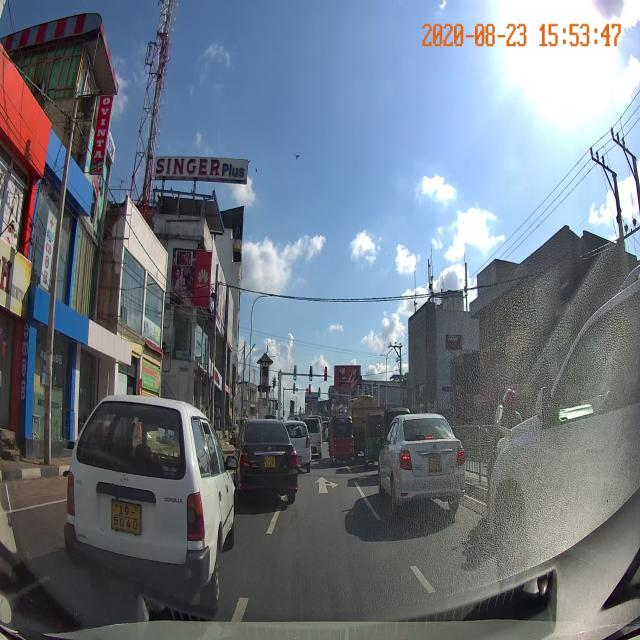forward_right: (275, 472, 372, 502), (275, 478, 371, 504)
